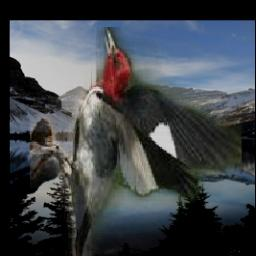Woodpecker: (31, 27, 243, 256)
